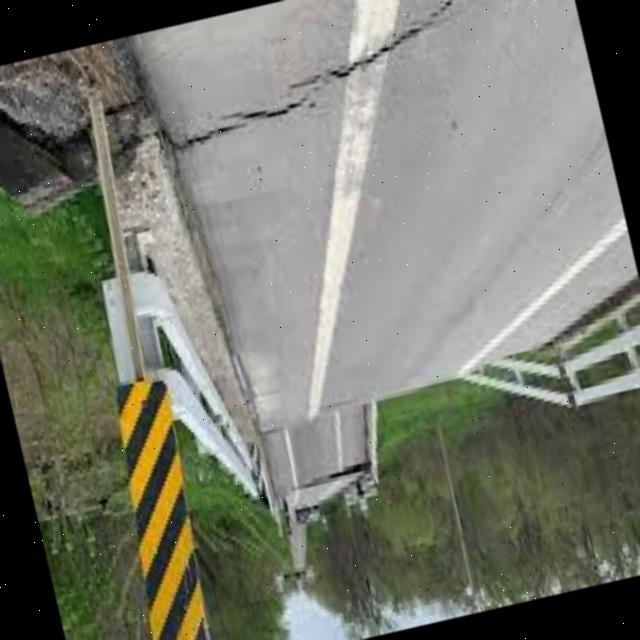bridge collapse: (1, 0, 640, 617)
